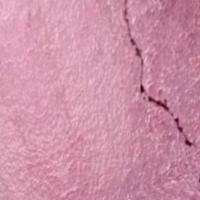crack: (107, 0, 199, 153)
